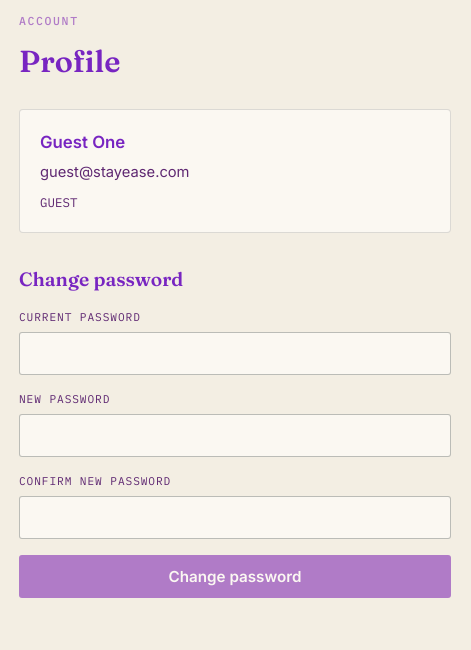
Test case: Profile page › shows the backend's error when the current password is wrong
The image size is (471, 650).
Type "wrongpass" into the password field labelled "Current password" at (235, 354), box [19, 332, 451, 375]
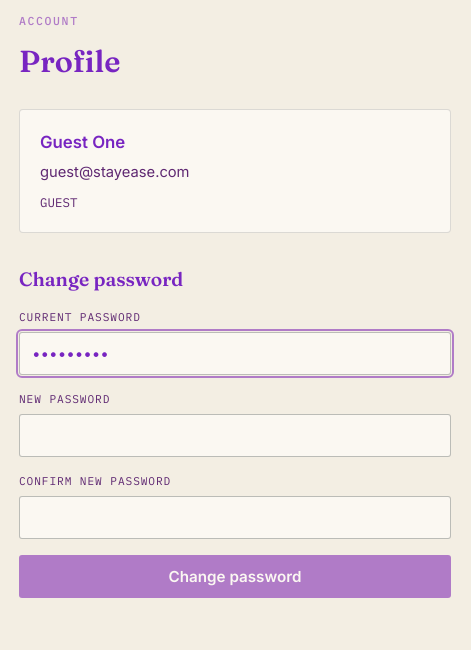
Type "newpassword1" into the password field labelled "New password" at (235, 436), box [19, 414, 451, 457]
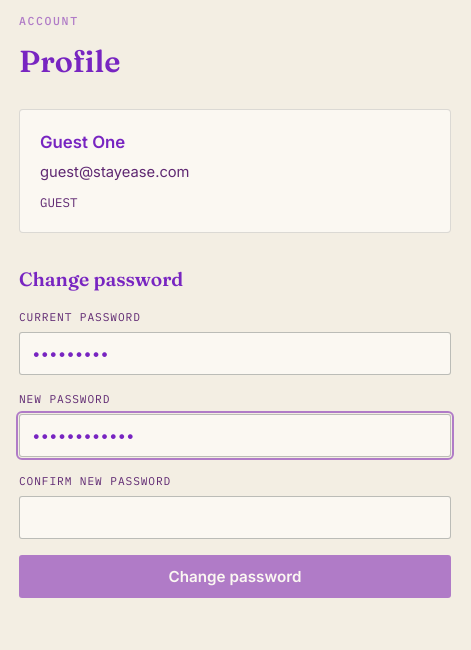
Type "newpassword1" into the password field labelled "Confirm new password" at (235, 517), box [19, 496, 451, 539]
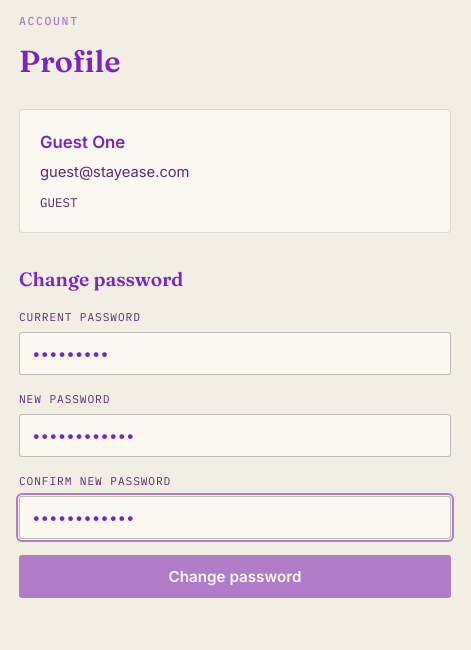
Click the button "Change password" at (235, 576), box [19, 555, 451, 598]
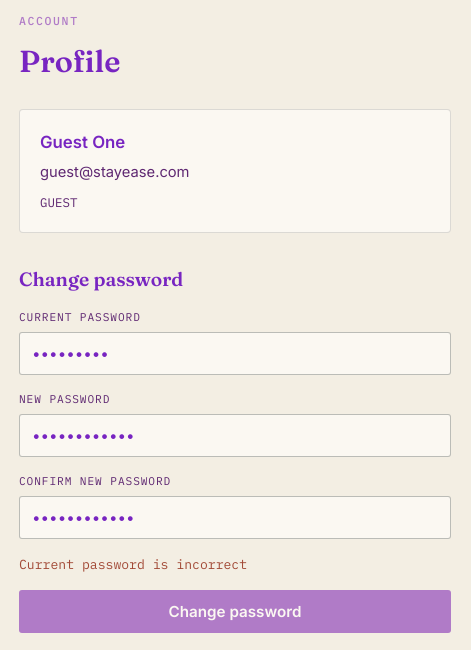
Expected: the text "Current password is incorrect" is shown, [19, 556, 247, 573]
